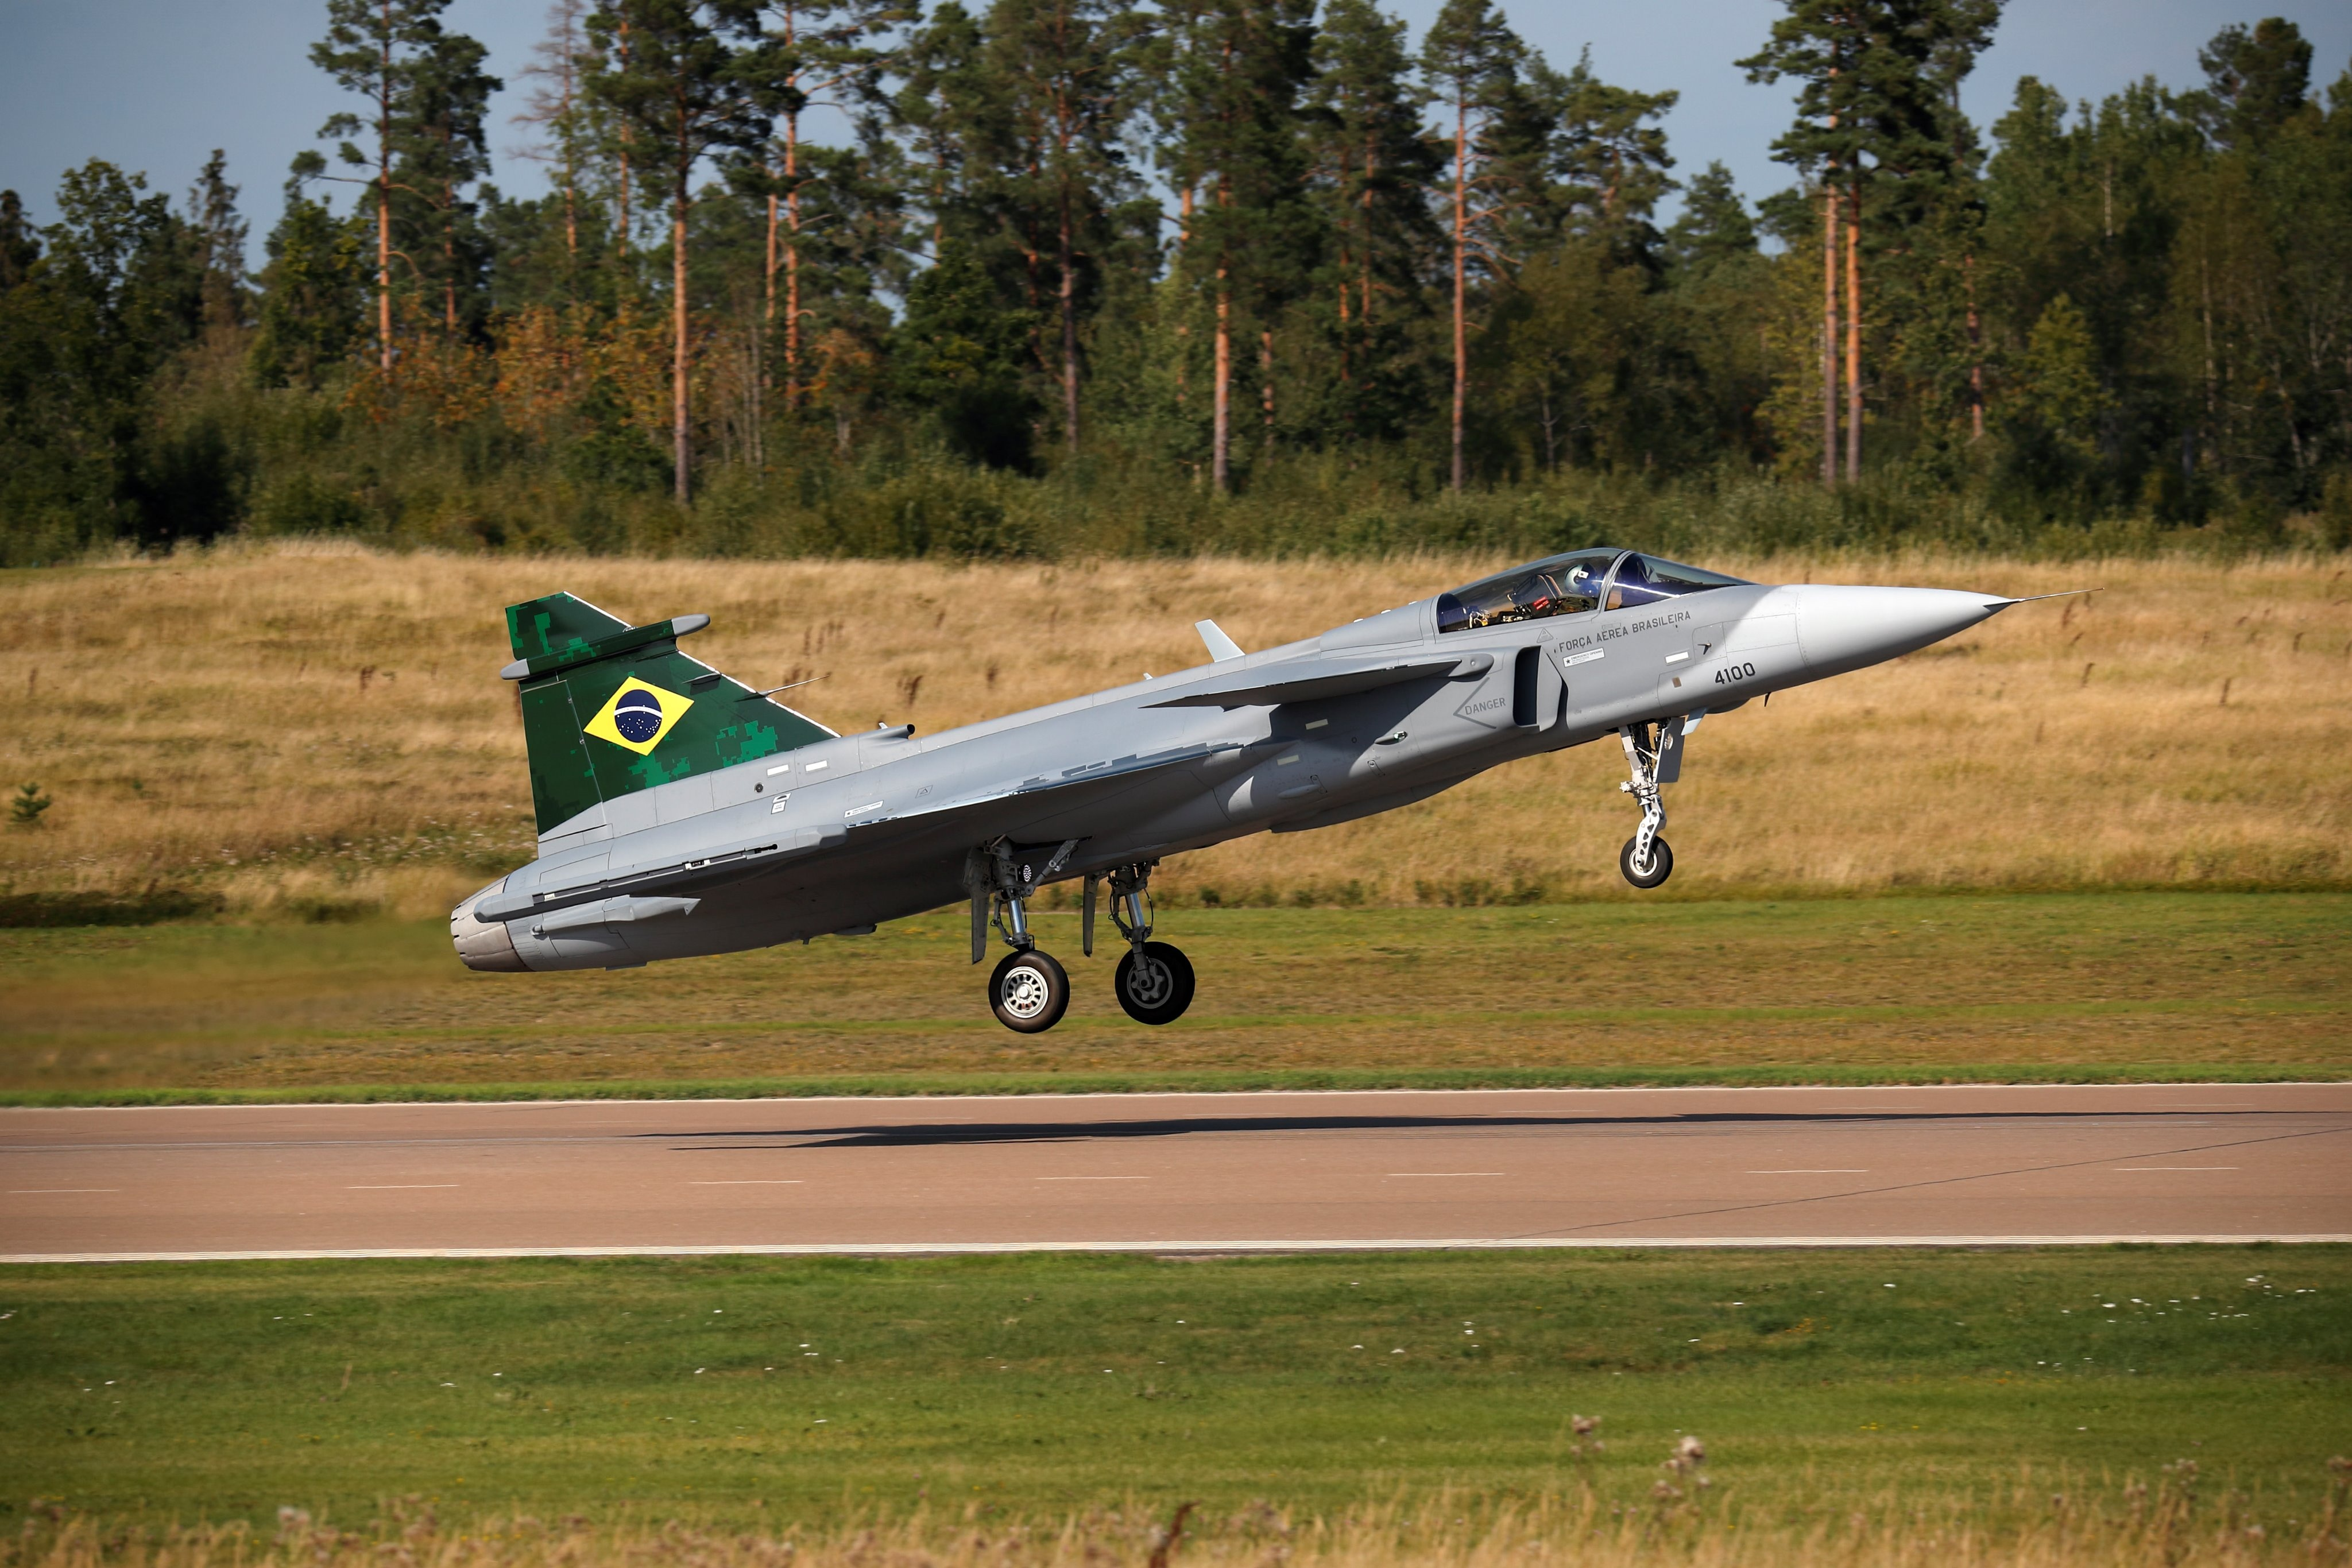JAS39: (450, 546, 2105, 1034)
